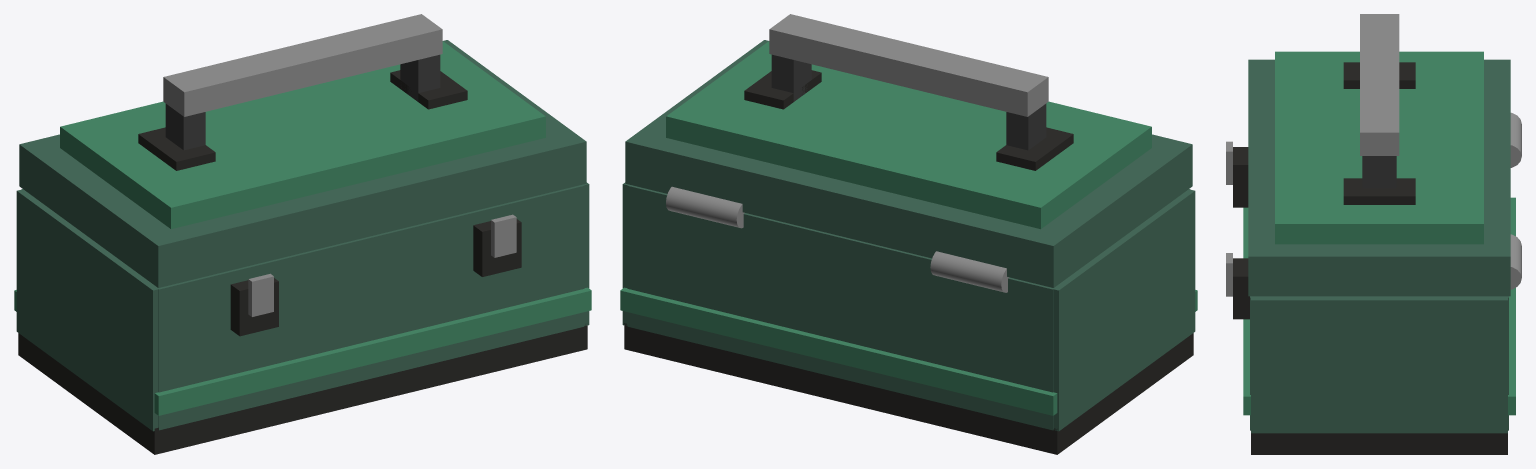
Rendered from CMU3DHandRMCToolboxMechanicalGreenCloud.glb.
The picture shows the model from 3 angles, left to right: view 1: azimuth 30°, elevation 25°; view 2: azimuth 150°, elevation 25°; view 3: azimuth 270°, elevation 25°; orthographic projection. The views are drawn at different scales.
Visible parts, largest first — view 1: front rear shell -1, closed top raised panel, closed lid core, side shell -1, box bottom, metal carry handle, lower reinforcement rib -1, handle attachment -0.16, latch lower socket -0.154, latch lower socket 0.154, handle upright -0.149, handle upright 0.149 (+4 smaller); view 2: front rear shell 1, closed top raised panel, closed lid core, side shell -1, box bottom, metal carry handle, lower reinforcement rib 1, rear hinge barrel 0.168, rear hinge barrel -0.168, handle attachment -0.16, handle upright -0.149, handle upright 0.149 (+2 smaller); view 3: side shell 1, closed top raised panel, closed lid core, metal carry handle, box bottom, handle attachment 0.16, handle upright 0.149, lower reinforcement rib 1, latch lower socket 0.154, lower reinforcement rib -1, latch lower socket -0.154, handle attachment -0.16 (+4 smaller).
Part boxes in pixels (x1=…): front rear shell -1: x1=151, y1=185, x2=584, y2=430; closed top raised panel: x1=60, y1=41, x2=545, y2=229; closed lid core: x1=19, y1=40, x2=586, y2=287; side shell -1: x1=16, y1=189, x2=174, y2=431; box bottom: x1=18, y1=324, x2=587, y2=454; metal carry handle: x1=163, y1=14, x2=442, y2=116; lower reinforcement rib -1: x1=154, y1=287, x2=591, y2=415; handle attachment -0.16: x1=138, y1=127, x2=215, y2=170; latch lower socket -0.154: x1=230, y1=278, x2=278, y2=336; latch lower socket 0.154: x1=473, y1=219, x2=521, y2=276; handle upright -0.149: x1=165, y1=103, x2=205, y2=150; handle upright 0.149: x1=400, y1=54, x2=440, y2=101; front rear shell 1: x1=627, y1=185, x2=1053, y2=430; closed top raised panel: x1=666, y1=41, x2=1151, y2=229; closed lid core: x1=625, y1=40, x2=1192, y2=287; side shell -1: x1=1037, y1=189, x2=1195, y2=431; box bottom: x1=624, y1=323, x2=1193, y2=454; metal carry handle: x1=769, y1=14, x2=1048, y2=116; lower reinforcement rib 1: x1=620, y1=287, x2=1057, y2=415; rear hinge barrel 0.168: x1=666, y1=186, x2=744, y2=228; rear hinge barrel -0.168: x1=930, y1=251, x2=1009, y2=292; handle attachment -0.16: x1=996, y1=127, x2=1073, y2=170; handle upright -0.149: x1=1006, y1=103, x2=1046, y2=150; handle upright 0.149: x1=771, y1=54, x2=811, y2=101; side shell 1: x1=1251, y1=296, x2=1507, y2=433; closed top raised panel: x1=1275, y1=51, x2=1483, y2=244; closed lid core: x1=1248, y1=59, x2=1510, y2=296; metal carry handle: x1=1360, y1=14, x2=1399, y2=155; box bottom: x1=1251, y1=433, x2=1507, y2=454; handle attachment 0.16: x1=1343, y1=178, x2=1415, y2=204; handle upright 0.149: x1=1362, y1=156, x2=1396, y2=188; lower reinforcement rib 1: x1=1508, y1=197, x2=1515, y2=415; latch lower socket 0.154: x1=1233, y1=258, x2=1249, y2=319; lower reinforcement rib -1: x1=1243, y1=207, x2=1250, y2=415; latch lower socket -0.154: x1=1233, y1=147, x2=1248, y2=207; handle attachment -0.16: x1=1343, y1=62, x2=1415, y2=88.
Size of what is drawn, in the model's own units: 0.554 by 0.363 by 0.345.
